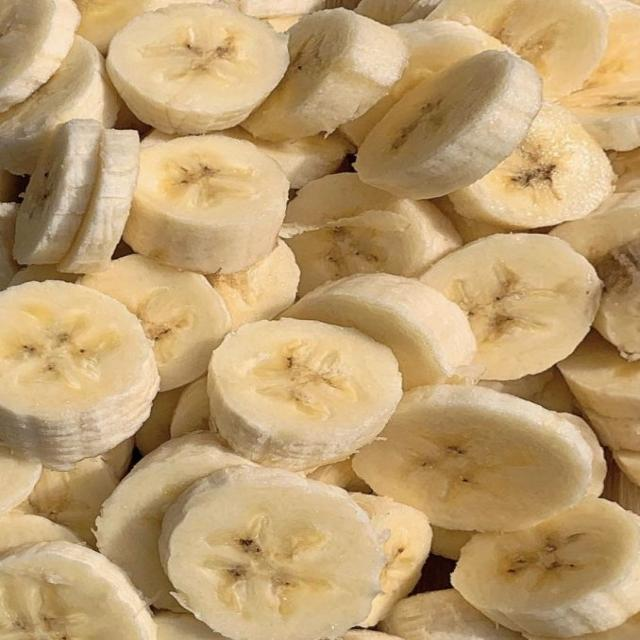banana slice: (159, 466, 386, 639), (354, 386, 592, 531), (0, 281, 158, 469), (208, 317, 402, 470), (96, 432, 251, 611), (355, 51, 541, 199), (422, 234, 601, 380), (452, 498, 639, 637), (107, 4, 288, 134), (124, 135, 288, 274), (285, 273, 475, 389), (282, 173, 461, 294), (243, 8, 407, 140), (79, 254, 231, 391), (449, 104, 615, 229), (340, 20, 504, 145), (430, 0, 608, 98), (0, 37, 121, 174), (0, 542, 156, 639), (15, 121, 103, 264), (58, 130, 139, 273), (563, 0, 639, 151), (352, 494, 432, 627), (558, 332, 639, 450), (0, 0, 80, 111), (19, 457, 118, 546), (219, 127, 354, 189), (207, 240, 300, 329), (222, 127, 353, 189), (76, 0, 210, 54), (381, 590, 522, 639), (551, 193, 639, 263), (594, 239, 639, 361), (562, 80, 639, 151), (582, 0, 639, 88), (479, 368, 578, 413), (558, 413, 606, 497), (558, 414, 606, 497), (431, 197, 509, 243), (0, 513, 81, 554), (135, 388, 183, 456), (0, 445, 42, 514), (169, 376, 215, 437), (583, 406, 639, 451), (307, 459, 371, 494), (604, 452, 639, 514), (355, 0, 440, 25), (154, 612, 226, 639), (222, 0, 327, 18), (572, 614, 639, 639), (0, 203, 19, 290), (431, 526, 474, 560), (9, 265, 79, 285), (608, 148, 639, 193), (102, 438, 134, 480), (114, 103, 152, 136), (612, 450, 639, 487), (0, 169, 25, 203), (264, 14, 304, 32), (341, 628, 400, 639)
